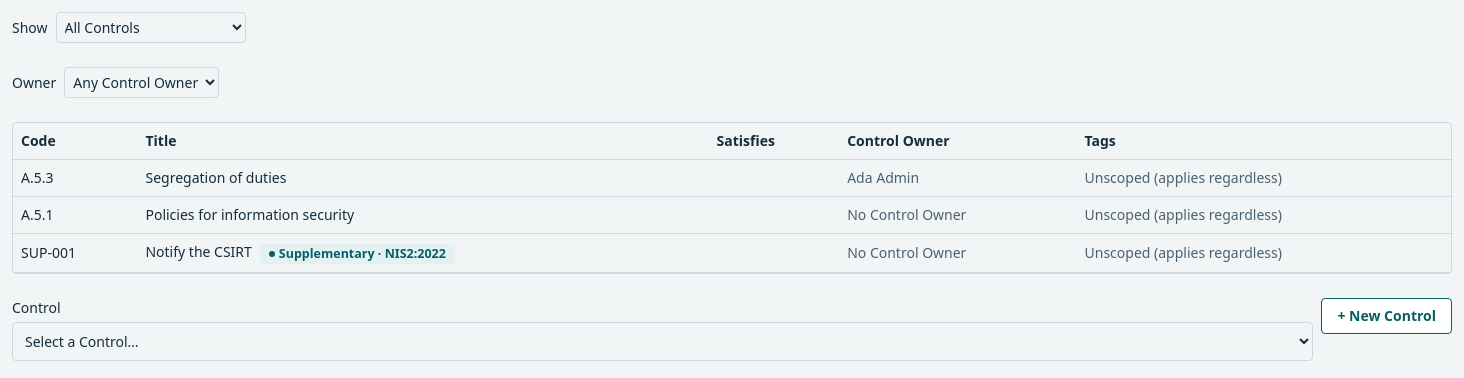
Test: ControlLibraryManager › Control Owner › filters the list to Controls with no Control Owner, together with the origin filter
Expected: the text "A.5.3" is shown, [13,160,138,196]
Select "No Control Owner" in the dropdown named "Control Owner filter": (142, 82) [64,67,219,98]
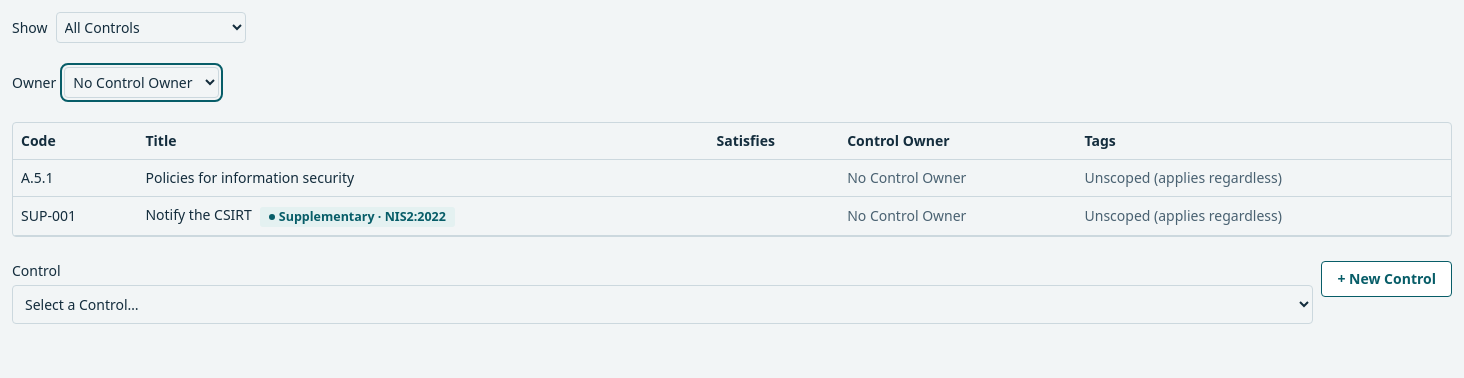
Expected: the text "A.5.1" is shown, [13,160,138,196]
Result: the text "A.5.3" is gone
Select "Supplementary Controls" in the dropdown named "Origin filter": (150, 28) [56,12,246,43]
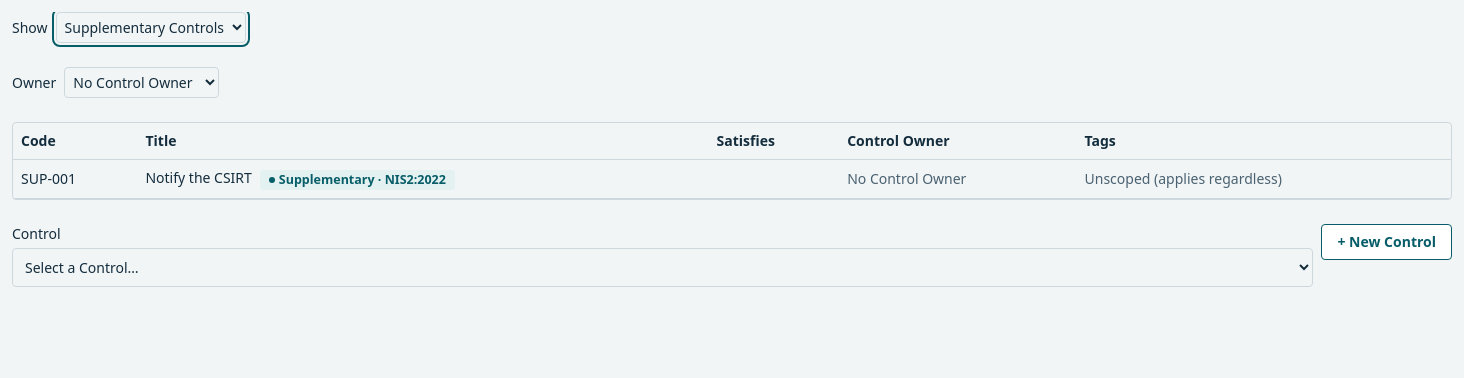
Expected: the text "SUP-001" is shown, [13,160,138,199]
Result: the text "A.5.1" is gone
Select "All Controls" in the dropdown named "Origin filter": (150, 28) [56,12,246,43]
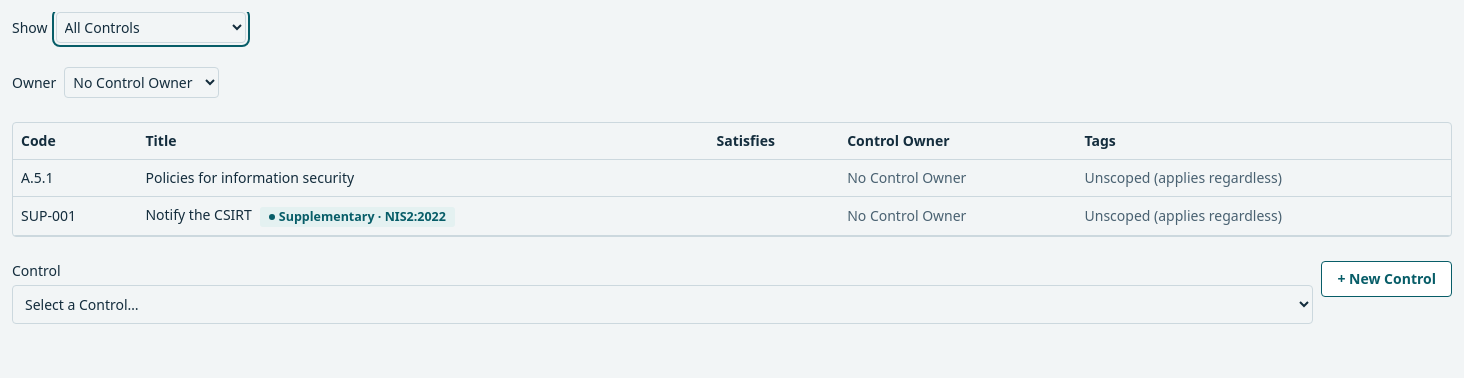
Select "Any Control Owner" in the dropdown named "Control Owner filter": (142, 82) [64,67,219,98]
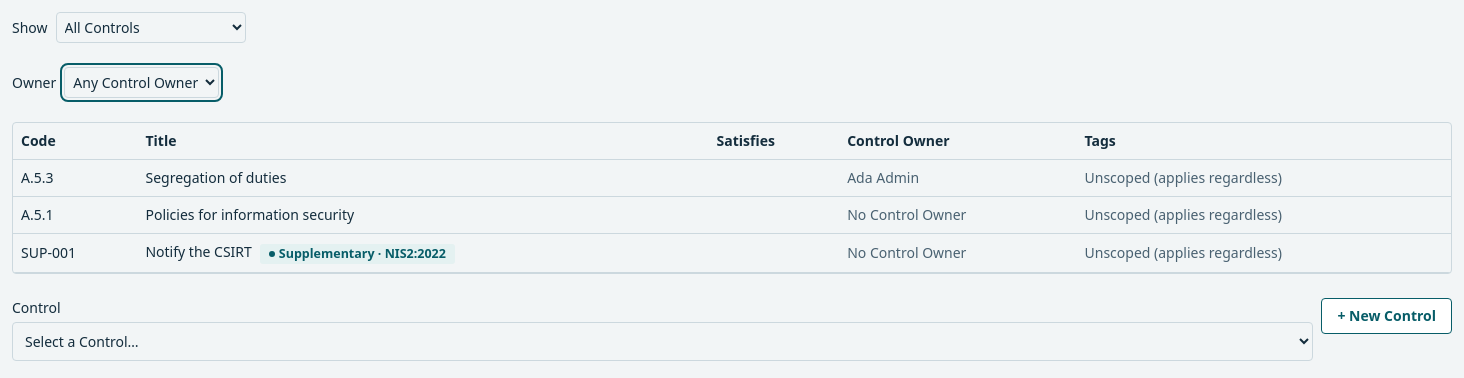
Result: the text "A.5.3" is shown at [13,160,138,196]
